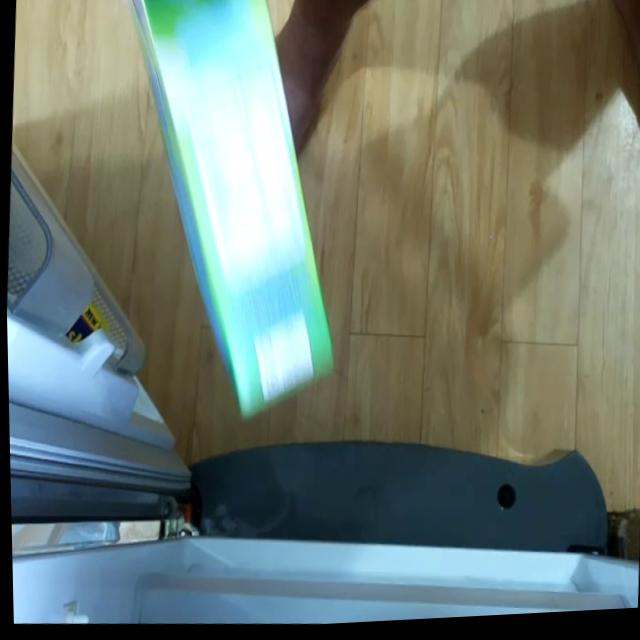milk: (107, 0, 356, 438)
